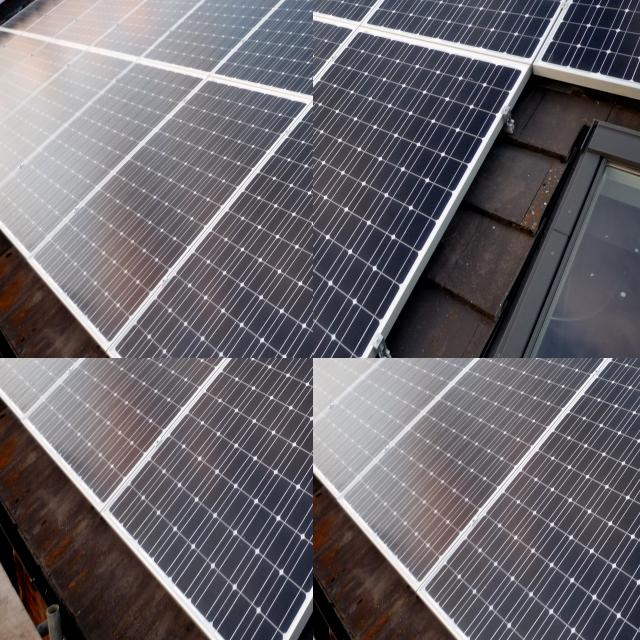crack: (332, 358, 625, 582), (403, 376, 640, 640), (313, 0, 369, 42)
dust: (198, 358, 247, 403), (91, 358, 136, 376)
panel: (0, 0, 17, 10), (31, 0, 48, 5), (51, 0, 67, 5), (16, 0, 32, 4), (0, 0, 15, 4), (0, 0, 11, 4), (34, 0, 46, 3), (13, 0, 29, 2), (0, 0, 5, 6), (48, 0, 63, 2), (62, 0, 72, 3), (56, 0, 69, 2), (66, 0, 72, 4), (66, 0, 72, 3), (0, 0, 5, 3), (0, 0, 3, 4), (0, 0, 4, 2)
